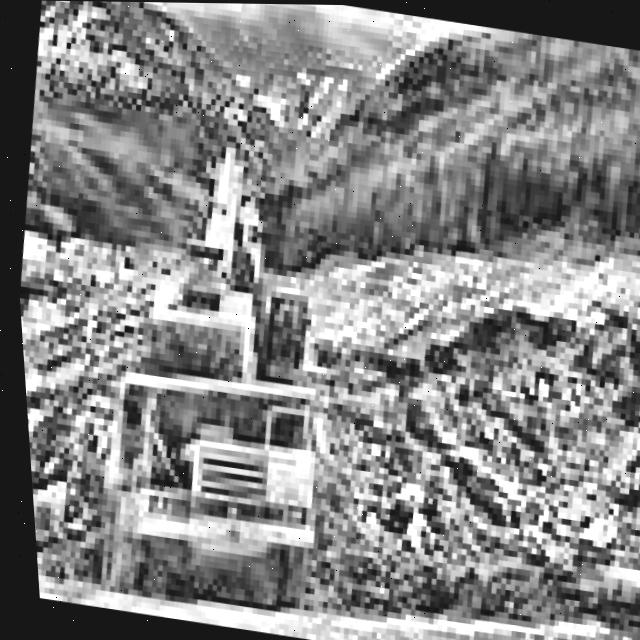dump_truck: (36, 335, 368, 640)
